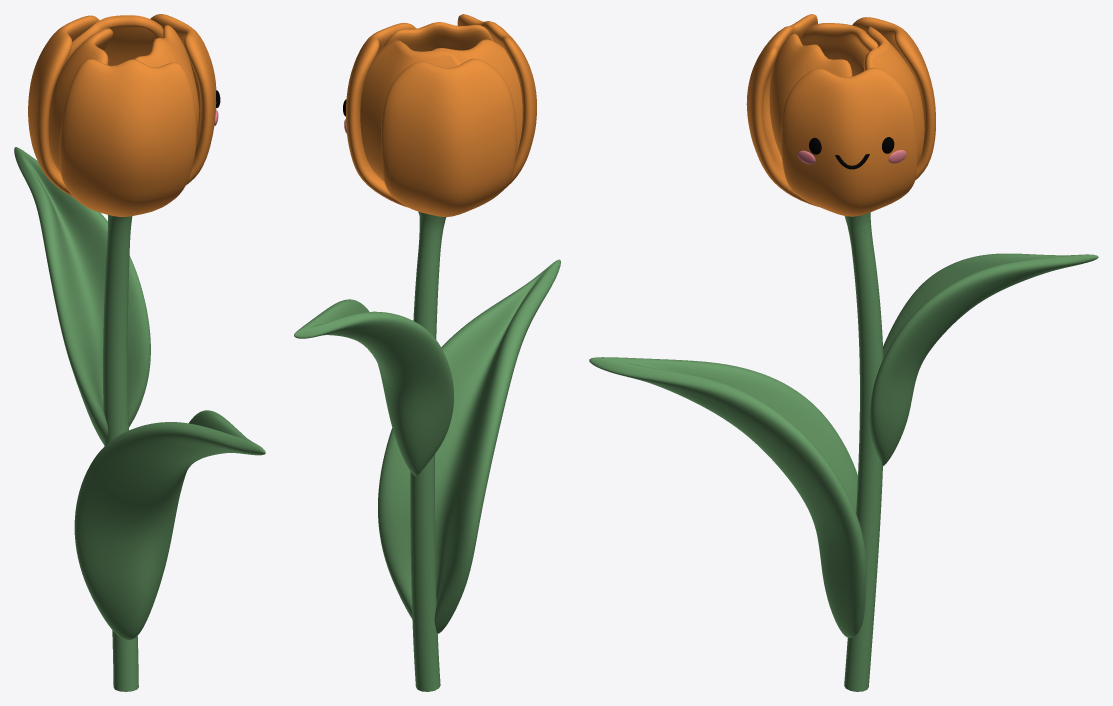
File: happy.glb
3 renders of one model, left to right at view 1: azimuth 30°, elevation 25°; view 2: azimuth 150°, elevation 25°; view 3: azimuth 270°, elevation 25°, orthographic. The views are drawn at different scales.
Parts seen in each view (by area): view 1: Left Leaf, Petal 6, Right Leaf, Stem, Petal 3, Petal 4, Petal 2, Petal 1, Petal 5; view 2: Left Leaf, Petal 3, Right Leaf, Stem, Petal 2, Petal 4, Petal 6, Petal 5, Petal 1; view 3: Left Leaf, Petal 4, Right Leaf, Stem, Petal 6, Petal 5, Petal 3, Petal 1, Petal 2.
Part boxes in pixels (bbox=[...]): Left Leaf: bbox=[74, 410, 265, 639]; Petal 6: bbox=[59, 59, 196, 216]; Right Leaf: bbox=[14, 147, 150, 444]; Stem: bbox=[103, 215, 138, 691]; Petal 3: bbox=[28, 15, 99, 196]; Petal 4: bbox=[150, 14, 216, 184]; Petal 2: bbox=[59, 15, 163, 74]; Petal 1: bbox=[48, 28, 113, 172]; Petal 5: bbox=[134, 25, 199, 132]; Left Leaf: bbox=[378, 259, 560, 633]; Petal 3: bbox=[381, 58, 516, 216]; Right Leaf: bbox=[294, 299, 453, 476]; Stem: bbox=[410, 211, 446, 691]; Petal 2: bbox=[360, 40, 461, 181]; Petal 4: bbox=[346, 22, 416, 207]; Petal 6: bbox=[457, 14, 536, 188]; Petal 5: bbox=[384, 22, 494, 51]; Petal 1: bbox=[432, 39, 522, 157]; Left Leaf: bbox=[589, 357, 866, 637]; Petal 4: bbox=[781, 67, 917, 216]; Right Leaf: bbox=[869, 253, 1098, 466]; Stem: bbox=[844, 212, 883, 691]; Petal 6: bbox=[746, 14, 818, 206]; Petal 5: bbox=[769, 33, 852, 157]; Petal 3: bbox=[852, 17, 935, 180]; Petal 1: bbox=[800, 23, 877, 75]; Petal 2: bbox=[863, 26, 924, 164].
Size of the model in its own units: 1.71 by 6.36 by 4.53.
